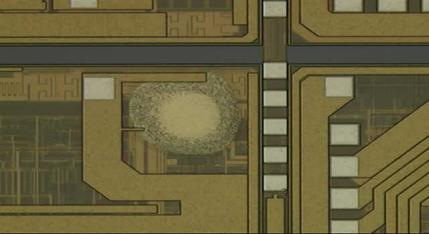BLOCK ETCH: (128, 67, 246, 159)
